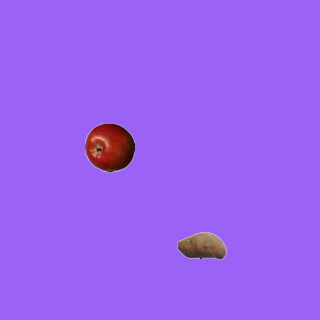Apple Braeburn: (84, 122, 134, 172)
Potato Sweet: (176, 220, 226, 270)
